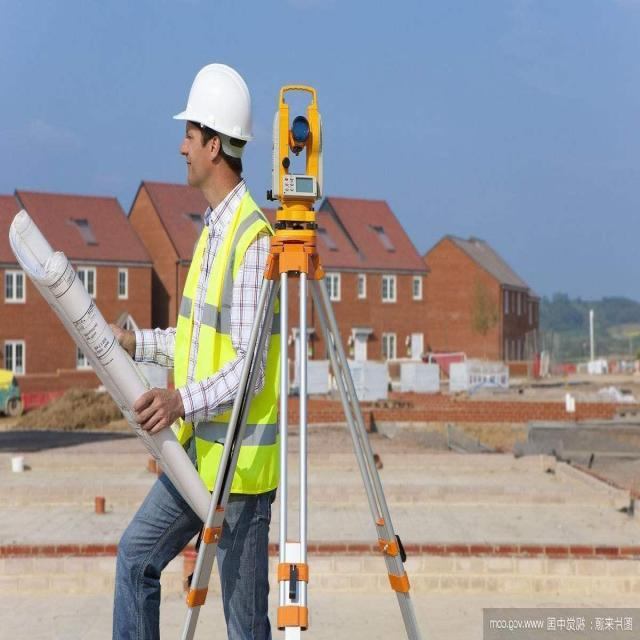helmet: (163, 60, 260, 153)
jacket: (156, 190, 276, 502)
